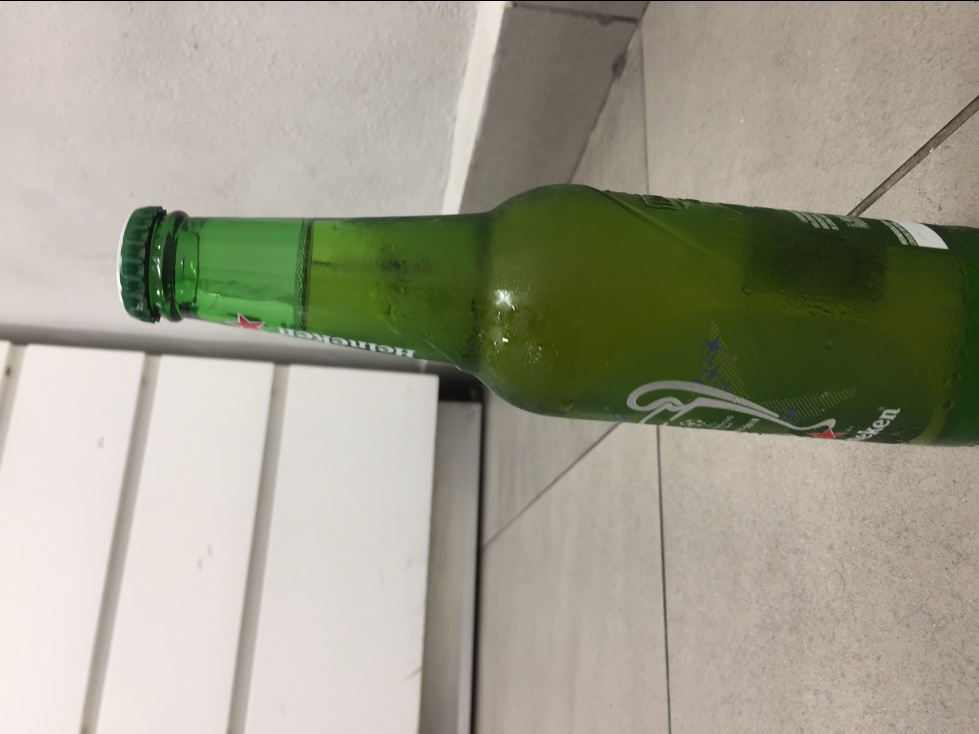heineken: (114, 180, 979, 451)
